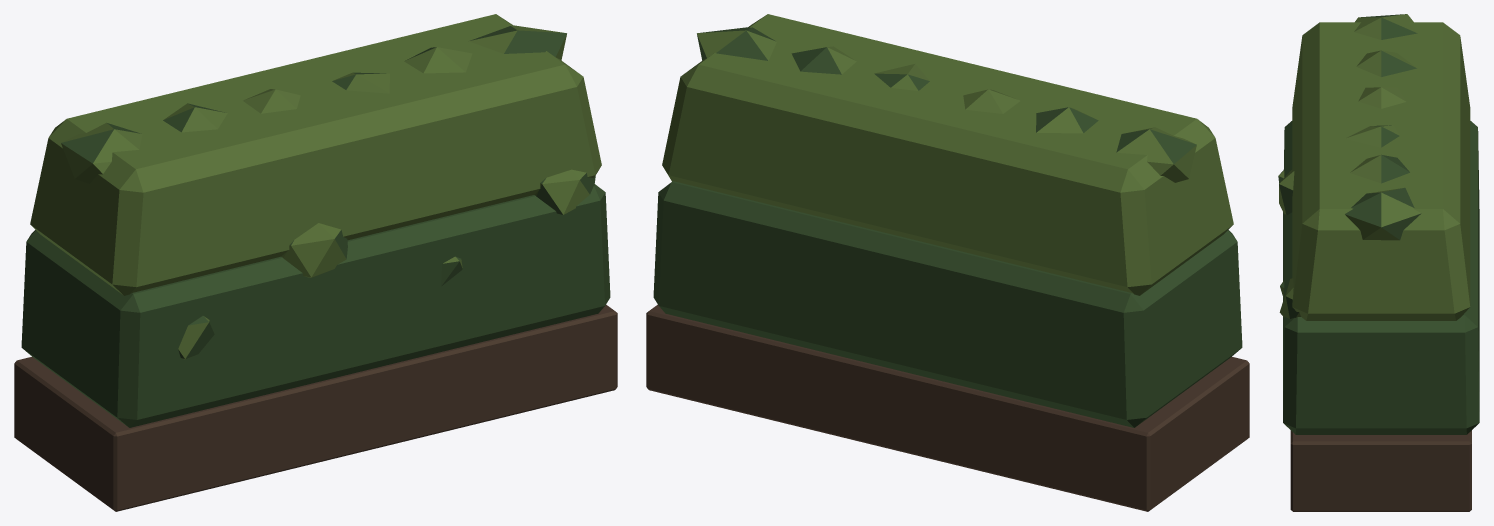
File: hedge.fbx
The picture shows the model from 3 angles, left to right: view 1: azimuth 30°, elevation 25°; view 2: azimuth 150°, elevation 25°; view 3: azimuth 270°, elevation 25°; orthographic projection. The views are drawn at different scales.
Visible parts, largest first — view 1: hedge; view 2: hedge; view 3: hedge.
Part boxes in pixels (x1,y1,x2,y2): hedge: (14,14,617,511); hedge: (646,14,1249,511); hedge: (1278,14,1479,511).
Size of the model in its own units: 2 by 1.28 by 0.7764.
